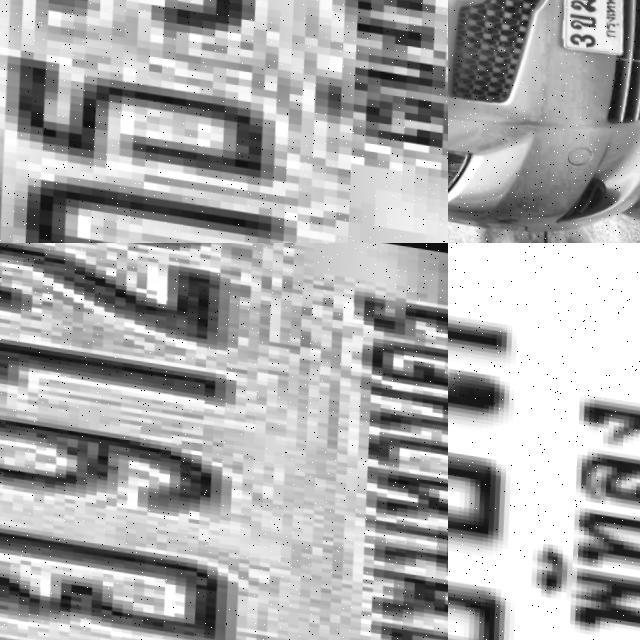license-plate: (0, 243, 448, 640), (0, 0, 448, 243), (448, 243, 640, 640), (547, 0, 633, 52)
